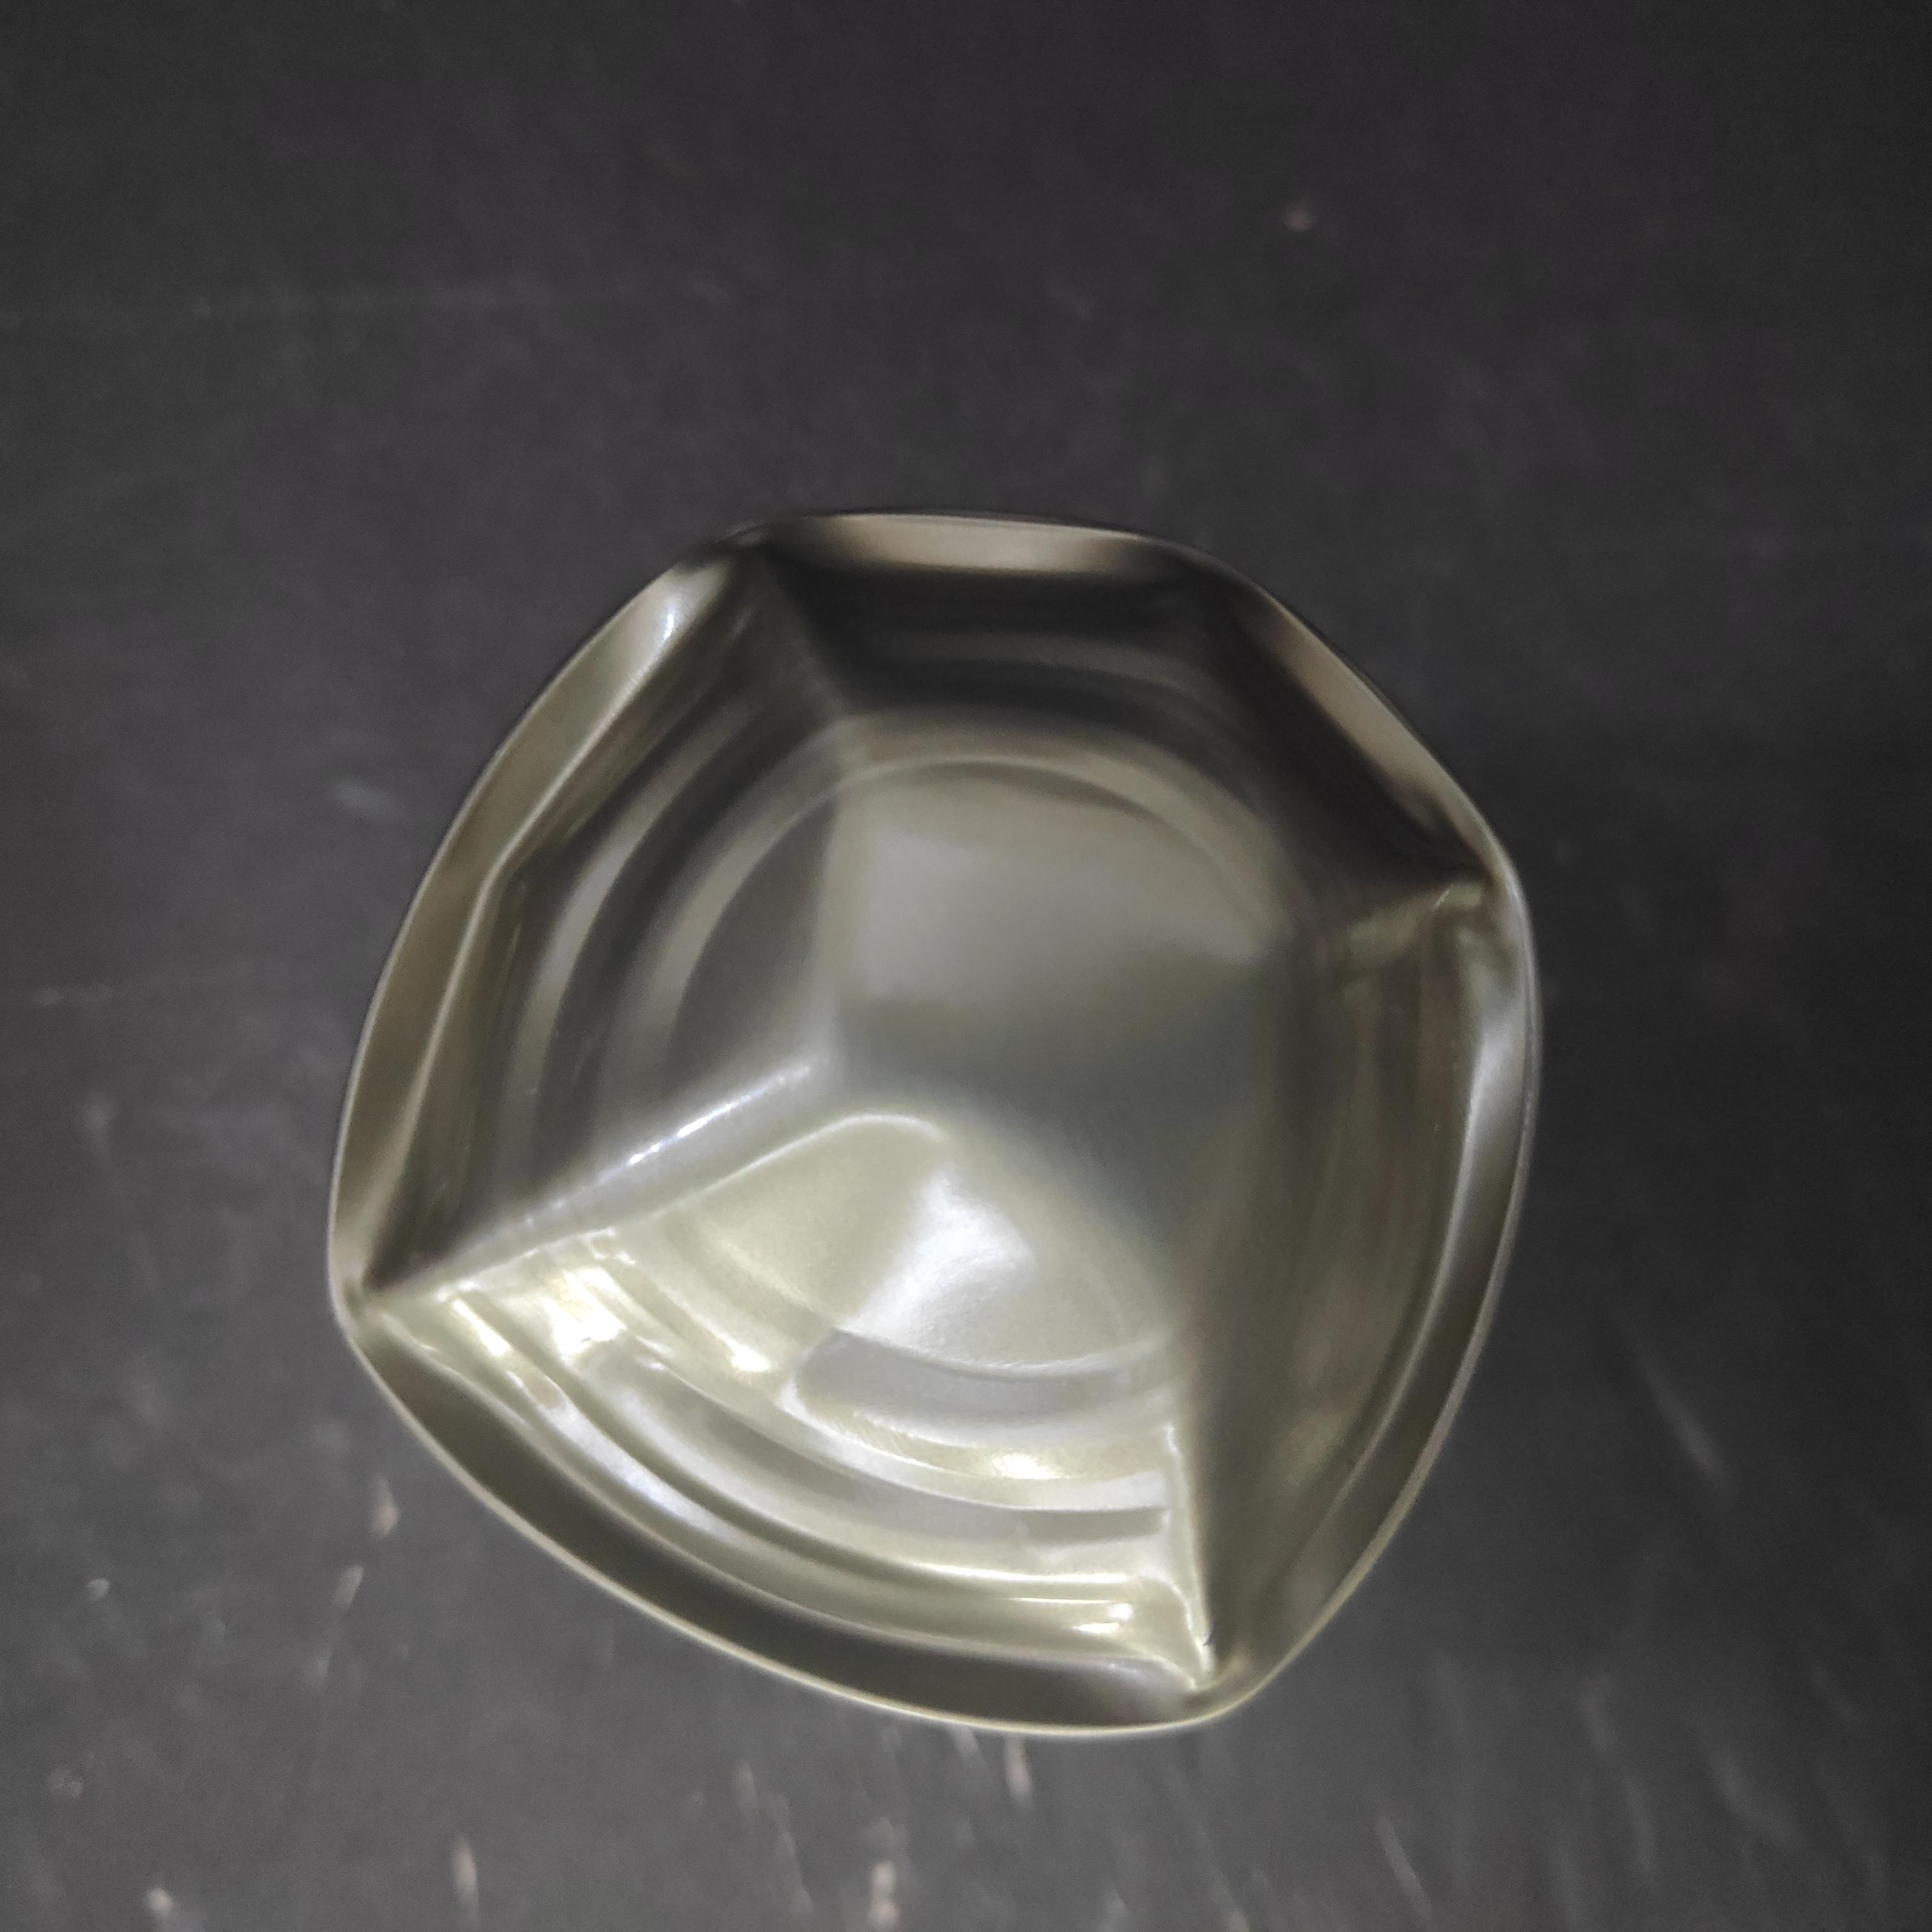Critical Defect: (177, 301, 1442, 1568)
